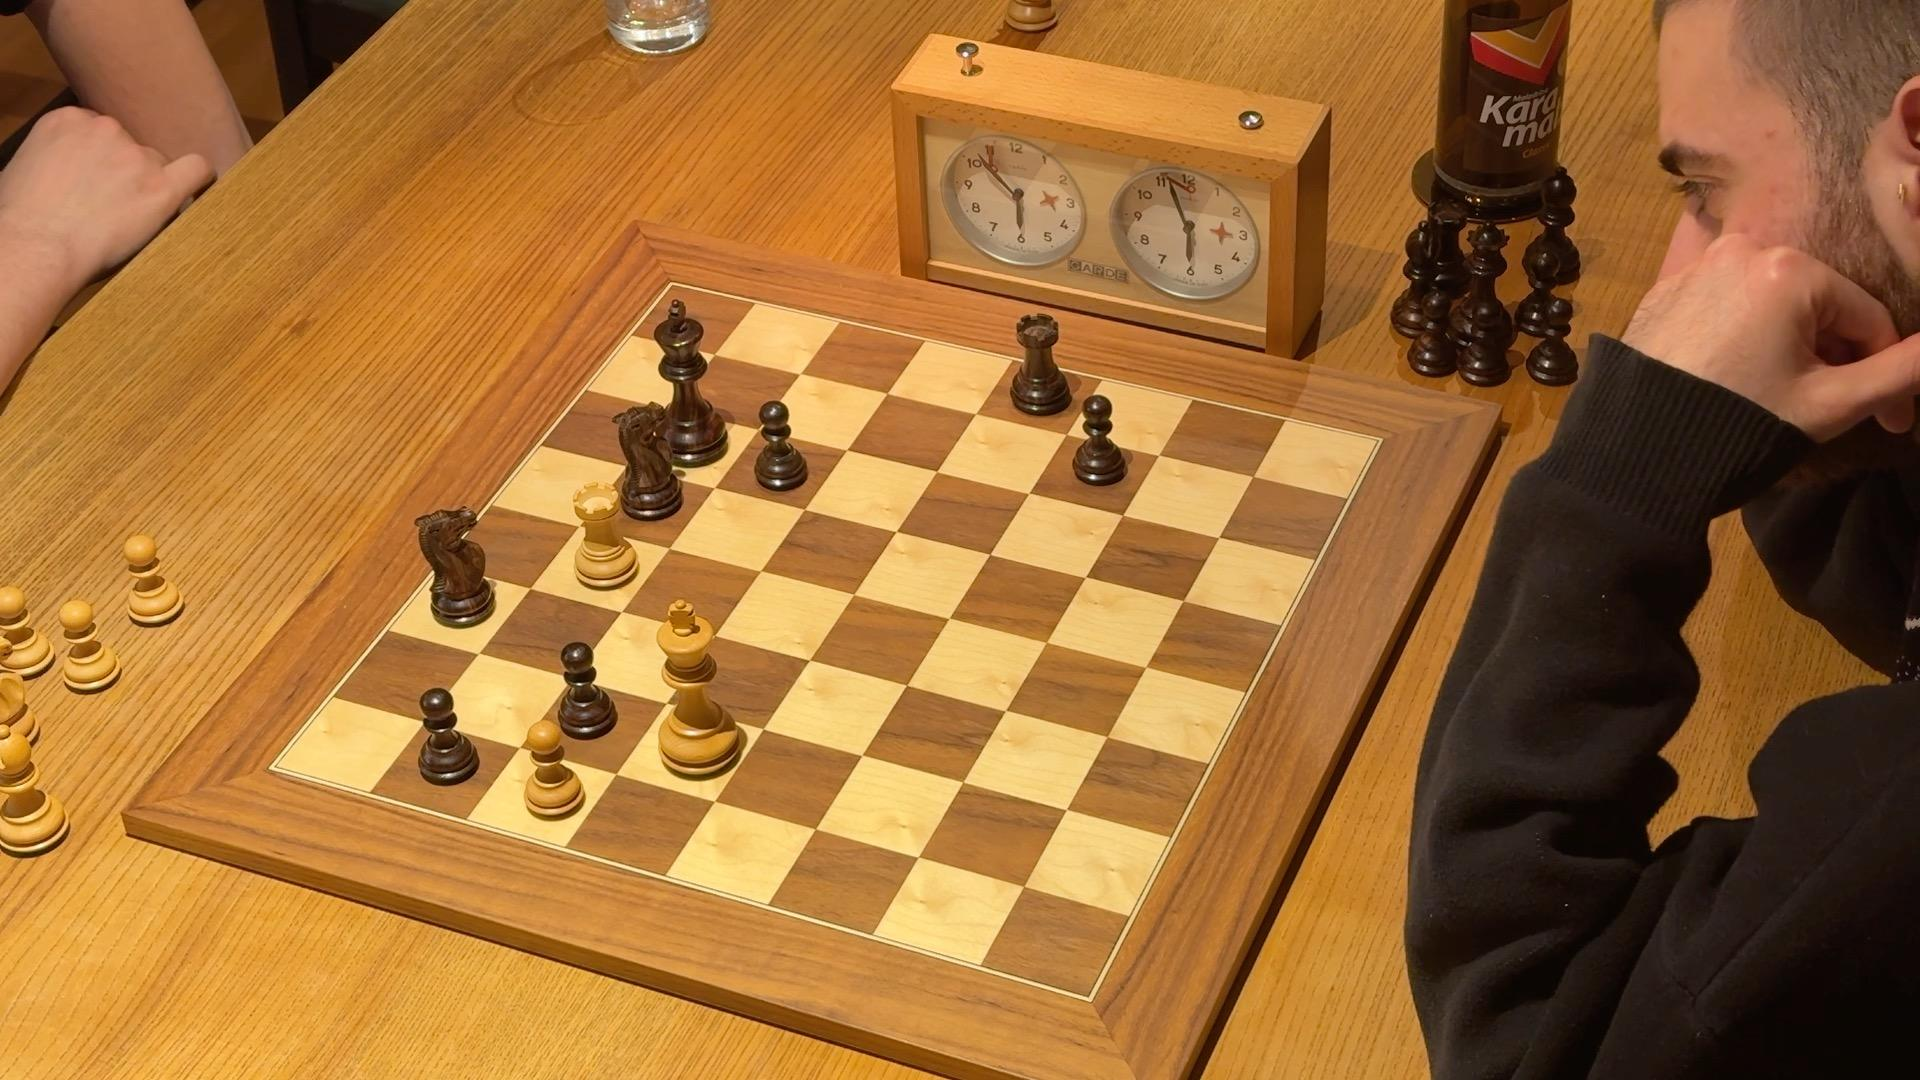Black King: (642, 291, 738, 473)
Black Knight: (407, 496, 508, 636), (599, 400, 698, 533)
Black Pawn: (741, 396, 812, 505), (409, 684, 483, 789), (1065, 382, 1133, 495), (549, 636, 618, 742)
Black Rook: (994, 305, 1083, 431)
White King: (647, 597, 746, 786)
White Pawn: (510, 715, 589, 829)
White Rook: (554, 473, 646, 605)
